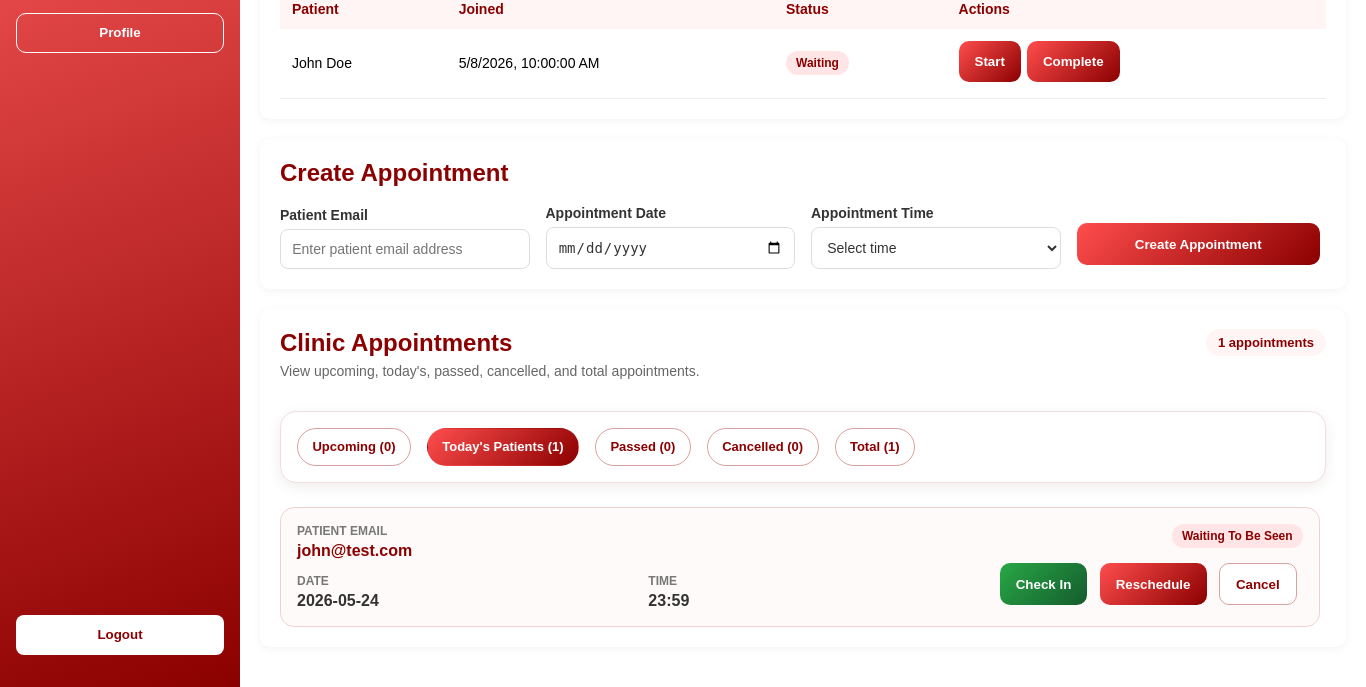
Scenario: StaffDashboard › cancel edit button exits reschedule mode
This screenshot has width=1366, height=687.
(page scrolled)
Expected: the heading "john@test.com" is shown, [297,542,412,559]
Click the button "Reschedule" at point(1153, 584), box [1100,563,1206,605]
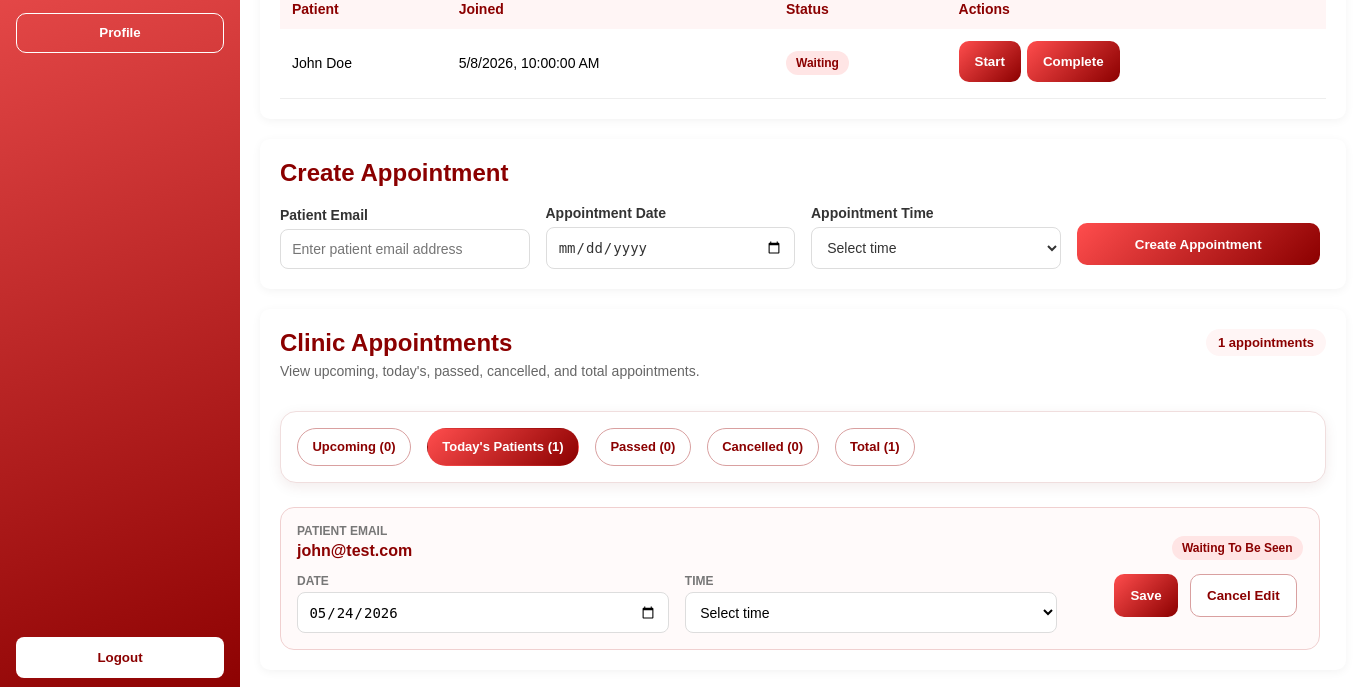
Click the button "Cancel Edit" at point(1243, 596), box [1190,574,1297,617]
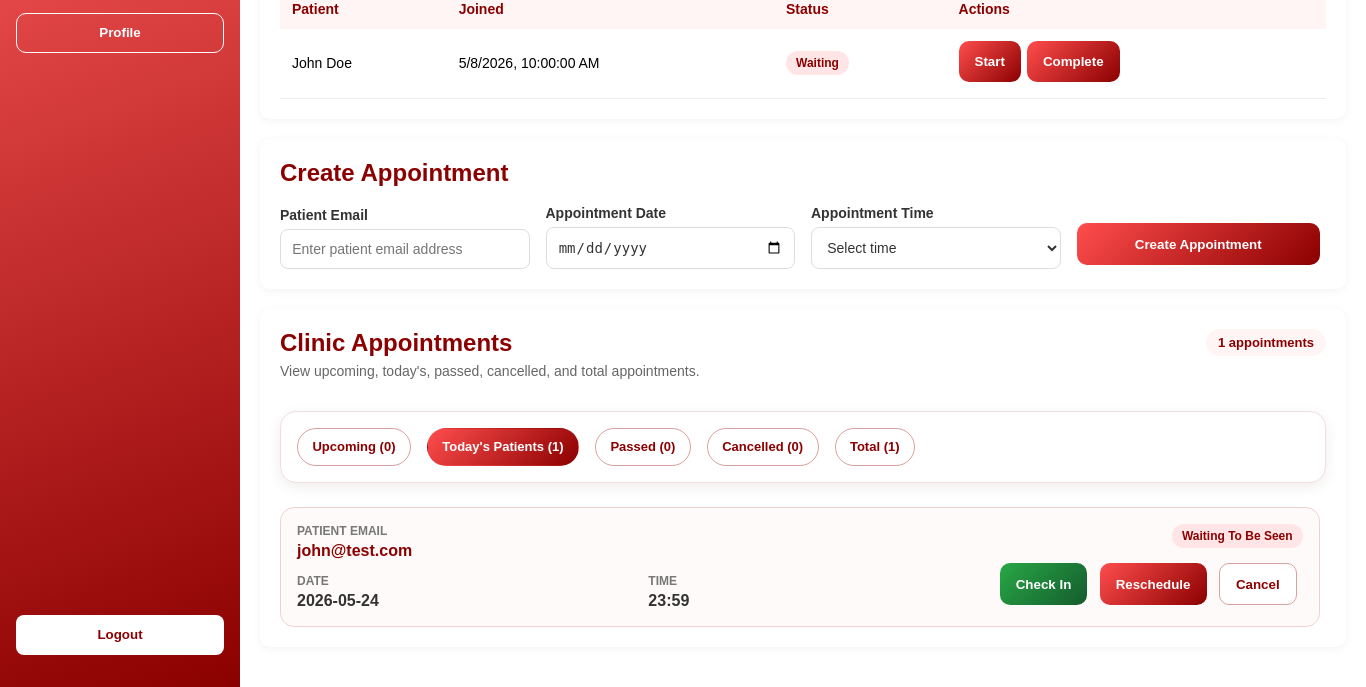
Expected: the button "Save" is gone
